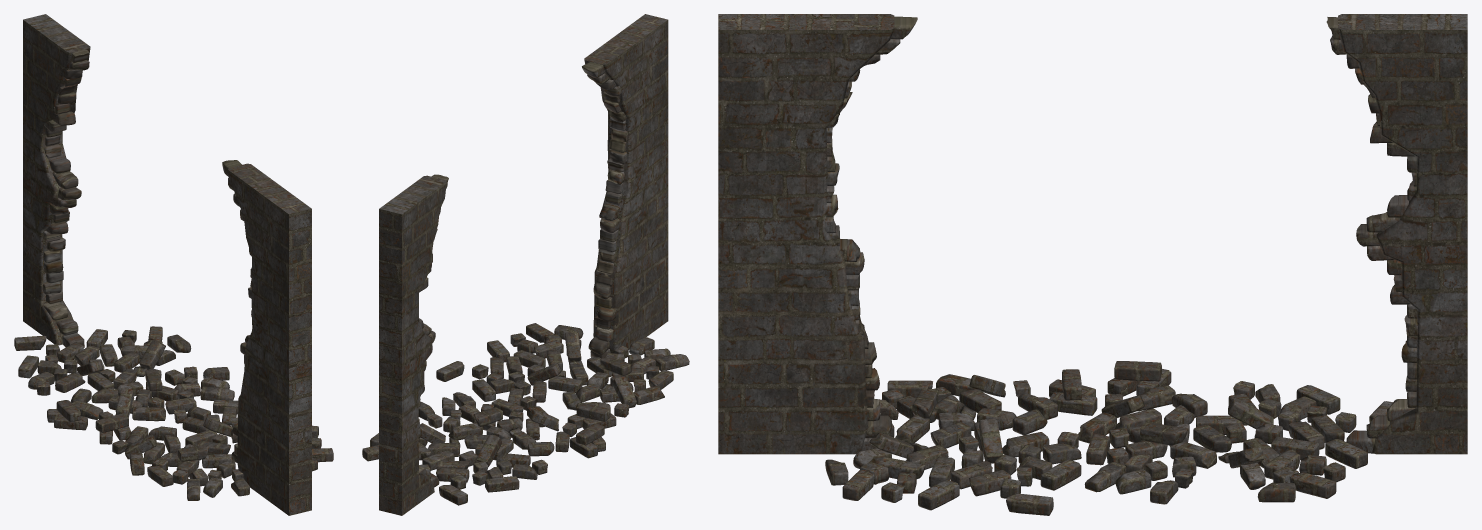
File: Basement_Corridor_A_Wall_Double_Sided_Broken_4m.glb
3 views of the same model, side by side, from view 1: azimuth 30°, elevation 25°; view 2: azimuth 150°, elevation 25°; view 3: azimuth 270°, elevation 25° (orthographic). The views are drawn at different scales.
Parts seen in each view (by area): view 1: Basement_Corridor_A_Wall_Double_Sided_Broken_4m, Brick_Debris_Ground_2, Brick_Debris_Ground_1, Brick_Debris_Wall; view 2: Basement_Corridor_A_Wall_Double_Sided_Broken_4m, Brick_Debris_Ground_1, Brick_Debris_Ground_2, Brick_Debris_Wall; view 3: Basement_Corridor_A_Wall_Double_Sided_Broken_4m, Brick_Debris_Ground_2, Brick_Debris_Ground_1, Brick_Debris_Wall.
Part boxes in pixels (<box>): Basement_Corridor_A_Wall_Double_Sided_Broken_4m: <box>23,14,311,515</box>; Brick_Debris_Ground_2: <box>14,326,234,430</box>; Brick_Debris_Ground_1: <box>95,399,333,500</box>; Brick_Debris_Wall: <box>43,49,252,462</box>; Basement_Corridor_A_Wall_Double_Sided_Broken_4m: <box>379,14,668,515</box>; Brick_Debris_Ground_1: <box>436,323,689,429</box>; Brick_Debris_Ground_2: <box>362,392,605,505</box>; Brick_Debris_Wall: <box>418,62,627,487</box>; Basement_Corridor_A_Wall_Double_Sided_Broken_4m: <box>718,14,1467,454</box>; Brick_Debris_Ground_2: <box>1078,361,1392,504</box>; Brick_Debris_Ground_1: <box>825,369,1097,515</box>; Brick_Debris_Wall: <box>824,16,1417,453</box>.
Bounding box in the file's own units: 1.74 × 2.51 × 4.
Materials: 1 (1 with a texture image).
